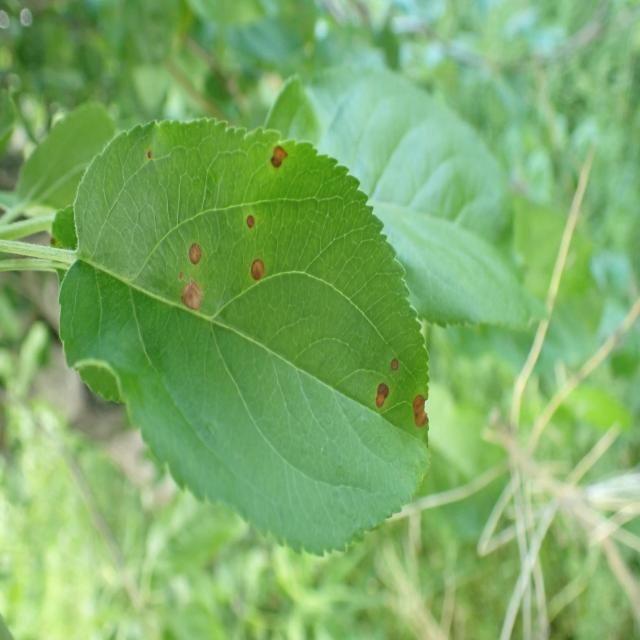Black Rot: (407, 376, 442, 457), (166, 266, 206, 331), (263, 145, 296, 201), (234, 194, 271, 234), (244, 257, 277, 300), (368, 377, 398, 423), (379, 347, 407, 386), (184, 235, 207, 277), (140, 138, 161, 172)
